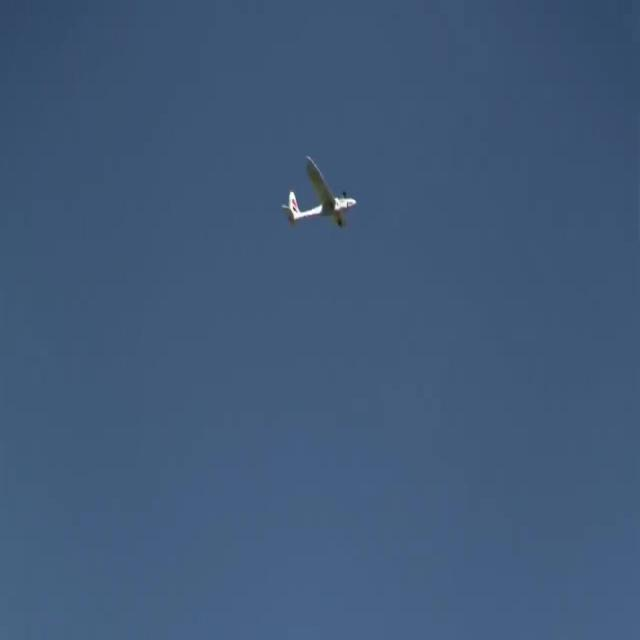iha: (311, 185, 328, 204)
